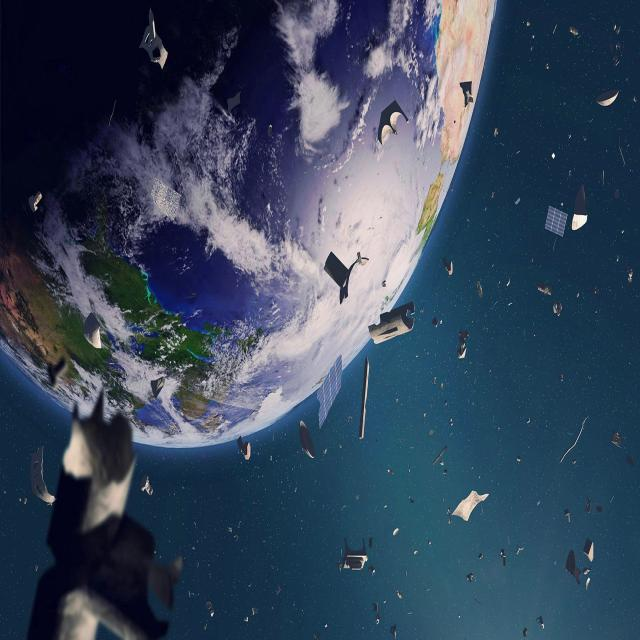large_debris: (27, 394, 182, 640), (324, 251, 369, 304), (369, 302, 415, 345), (317, 354, 343, 428), (140, 11, 168, 69), (30, 448, 54, 505), (378, 101, 409, 145), (151, 177, 181, 220), (561, 416, 588, 461), (453, 492, 489, 523), (343, 540, 368, 572), (358, 358, 367, 442), (572, 184, 587, 230), (546, 207, 569, 236), (82, 312, 101, 347), (567, 552, 584, 586), (299, 419, 313, 460), (595, 90, 620, 107), (458, 330, 470, 360), (459, 82, 473, 106), (238, 438, 251, 461), (433, 445, 447, 465), (140, 476, 153, 497), (584, 540, 595, 564), (28, 192, 41, 212), (618, 135, 626, 167), (611, 429, 624, 447), (538, 282, 554, 296), (108, 100, 116, 127), (432, 375, 446, 389), (444, 257, 453, 277), (476, 279, 484, 299), (432, 315, 443, 329), (205, 602, 214, 619), (492, 125, 501, 141), (554, 301, 563, 316), (587, 541, 594, 560), (627, 263, 633, 283), (500, 551, 507, 568), (537, 615, 544, 631), (550, 149, 557, 164), (392, 526, 400, 538), (447, 416, 454, 429), (525, 415, 532, 428), (571, 26, 580, 36), (516, 544, 524, 555), (586, 496, 591, 513), (515, 453, 522, 465), (522, 626, 528, 640), (514, 196, 522, 206), (626, 457, 634, 467), (600, 170, 605, 186), (447, 508, 452, 524), (564, 509, 570, 522), (475, 595, 482, 606), (553, 236, 558, 251), (391, 627, 397, 639), (614, 55, 620, 67), (583, 567, 592, 575), (505, 275, 511, 286), (407, 496, 415, 504), (596, 505, 604, 513), (466, 573, 473, 582), (368, 567, 375, 576), (251, 609, 258, 617), (613, 25, 620, 33), (586, 577, 590, 591), (594, 286, 600, 295), (492, 301, 498, 310), (372, 603, 378, 612), (337, 563, 342, 573), (387, 468, 394, 475), (508, 300, 514, 308), (396, 591, 402, 599), (376, 615, 381, 624), (546, 62, 550, 73), (553, 24, 557, 35), (369, 539, 373, 550), (571, 460, 577, 467), (478, 552, 483, 560), (609, 596, 614, 604), (616, 41, 620, 50), (559, 375, 564, 382), (341, 504, 346, 511), (414, 549, 418, 557), (414, 354, 420, 359), (616, 253, 619, 263), (276, 589, 280, 596), (228, 528, 232, 535), (634, 94, 637, 103), (243, 619, 248, 624), (576, 291, 579, 299), (234, 537, 238, 543), (491, 191, 494, 199), (315, 634, 319, 640), (406, 611, 412, 615), (429, 429, 433, 435), (441, 459, 444, 466), (443, 469, 447, 474), (588, 119, 593, 123), (496, 281, 501, 285), (425, 588, 430, 592), (356, 493, 359, 499), (526, 22, 530, 26), (583, 136, 587, 140), (530, 46, 533, 51), (568, 134, 571, 139), (204, 625, 206, 632), (531, 257, 533, 263), (428, 541, 431, 545), (383, 600, 386, 604), (325, 624, 327, 629), (458, 614, 460, 619), (532, 36, 535, 39), (475, 574, 476, 582), (384, 505, 387, 507)
